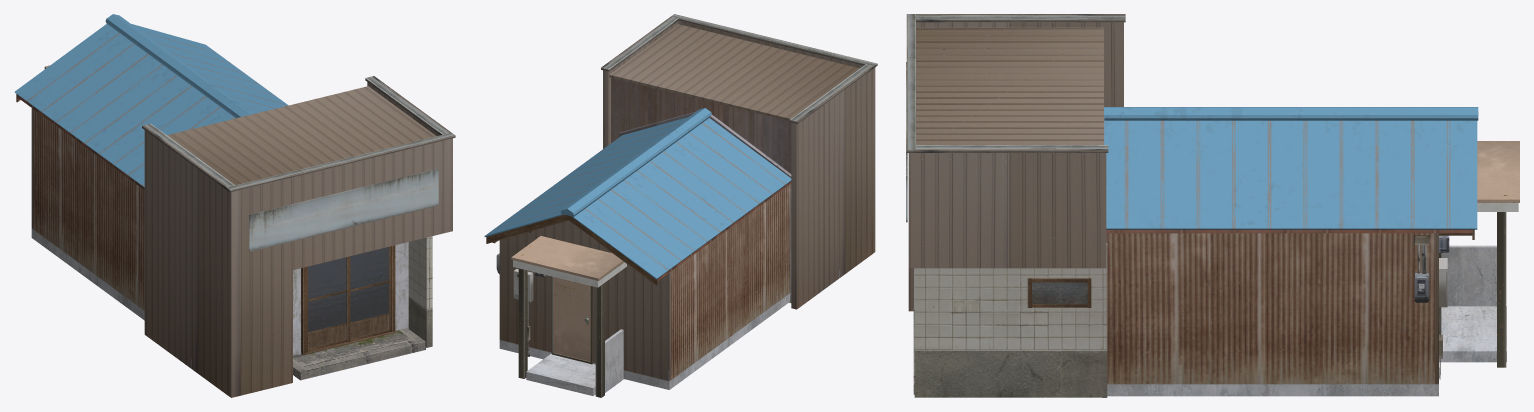
File: house_shop04.fbx
The picture shows the model from 3 angles, left to right: view 1: azimuth 30°, elevation 25°; view 2: azimuth 150°, elevation 25°; view 3: azimuth 270°, elevation 25°; orthographic projection. The views are drawn at different scales.
Visible parts, largest first — view 1: house_shop04; view 2: house_shop04; view 3: house_shop04.
Part boxes in pixels (box(x1,y1,x2,y2)): house_shop04: box(15, 14, 455, 397); house_shop04: box(484, 14, 877, 397); house_shop04: box(906, 14, 1519, 397).
Size of the model in its own units: 661 by 1257 by 592.
8 materials, 8 textured.
